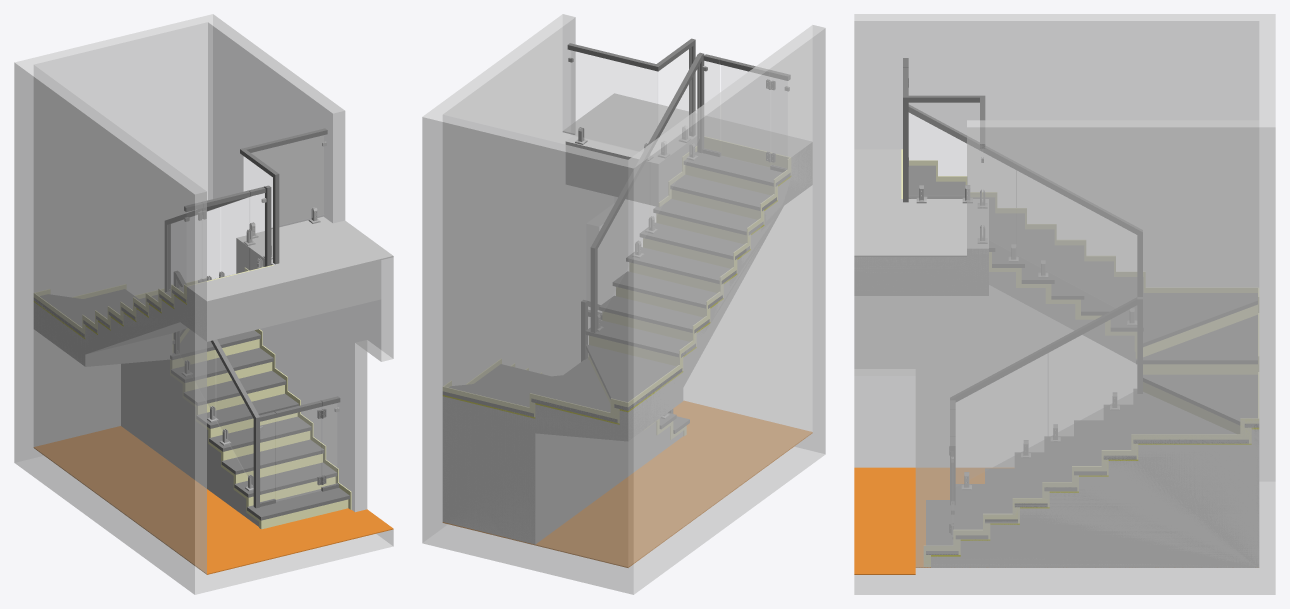
Rendered from устройство лестницы на бетонном основании со стеклянным ограждением.obj.
3 renders of one model, left to right at view 1: azimuth 30°, elevation 25°; view 2: azimuth 150°, elevation 25°; view 3: azimuth 270°, elevation 25°, orthographic. The views are drawn at different scales.
Bounding box in the file's own units: 2.44 × 4.7 × 3.84.
